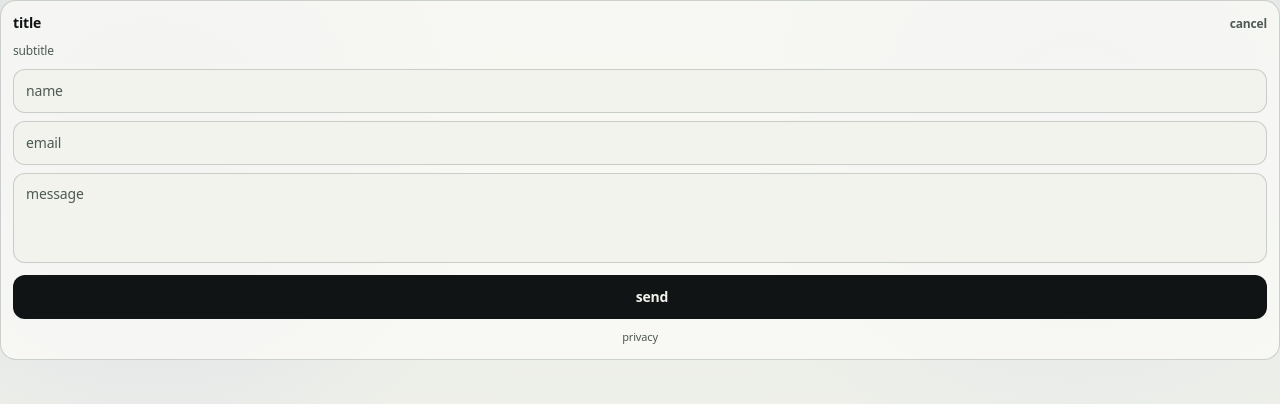
Scenario: ChatContactForm › sends a valid message through the contact API and confirms it
Type "Maria Andrade" into the field with placeholder "name" at (640, 91), box x1=13 y1=69 x2=1267 y2=113
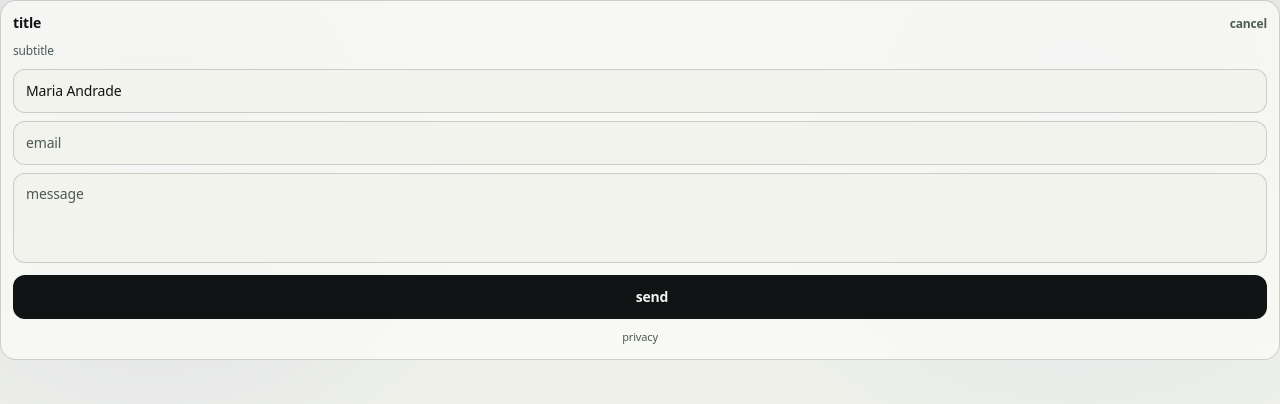
Type "maria@empresa.com.br" into the field with placeholder "email" at (640, 143), box x1=13 y1=121 x2=1267 y2=165
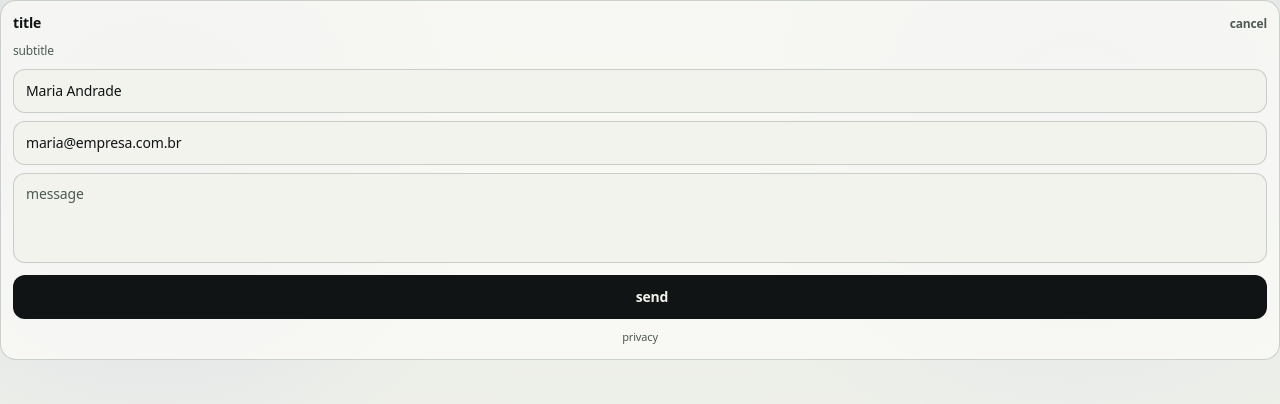
Type "Preciso de um app de pedidos integrado ao WhatsApp." into the text box with placeholder "message" at (640, 218), box x1=13 y1=173 x2=1267 y2=263
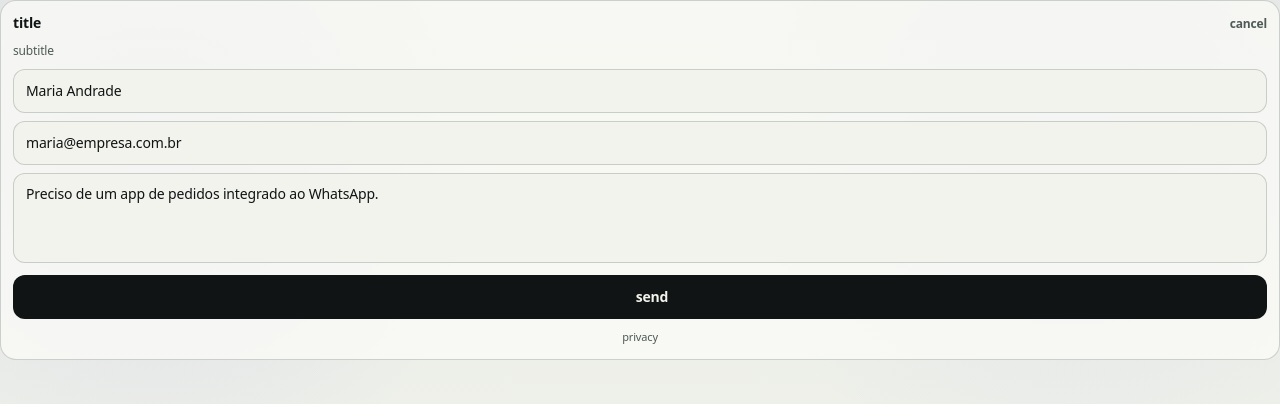
Submit the form with test id "chat-contact-form"
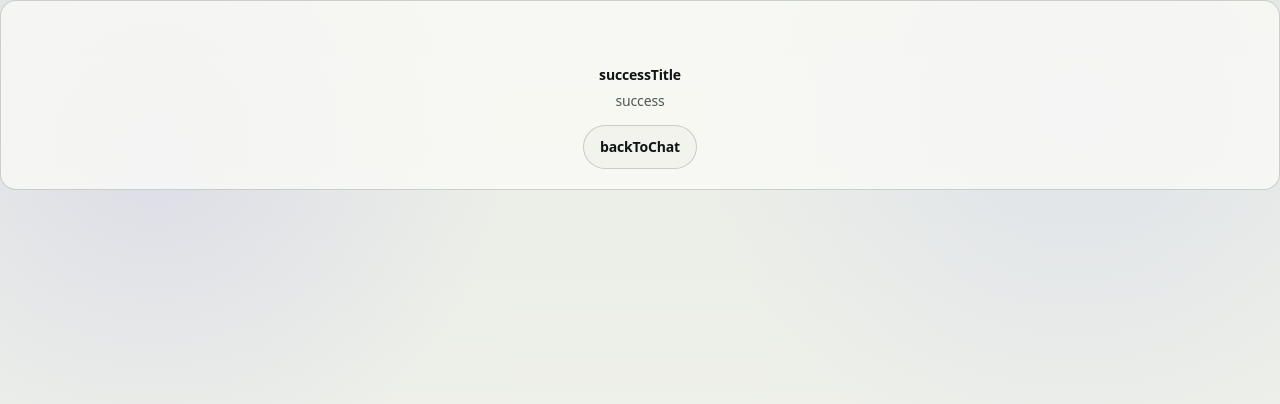
Expected: the message "successTitle success backToChat" is shown, x1=0 y1=0 x2=1279 y2=190
